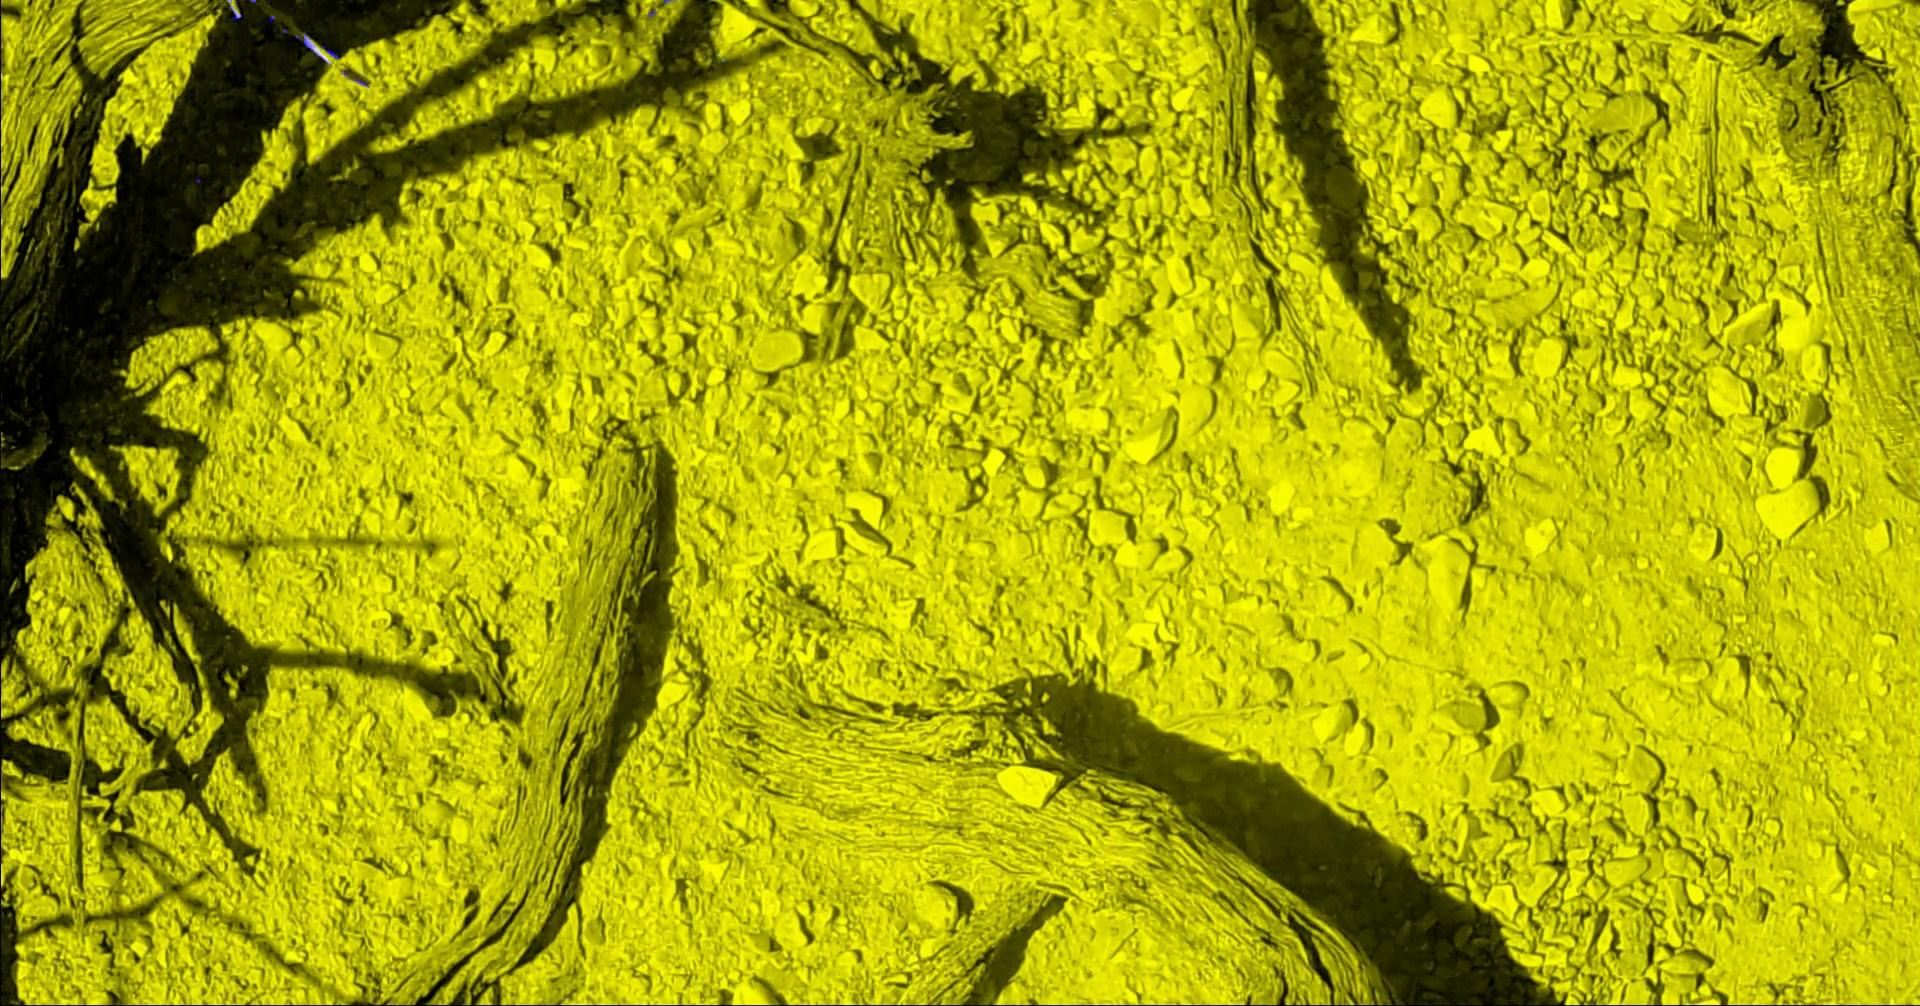ant: (295, 32, 325, 62)
